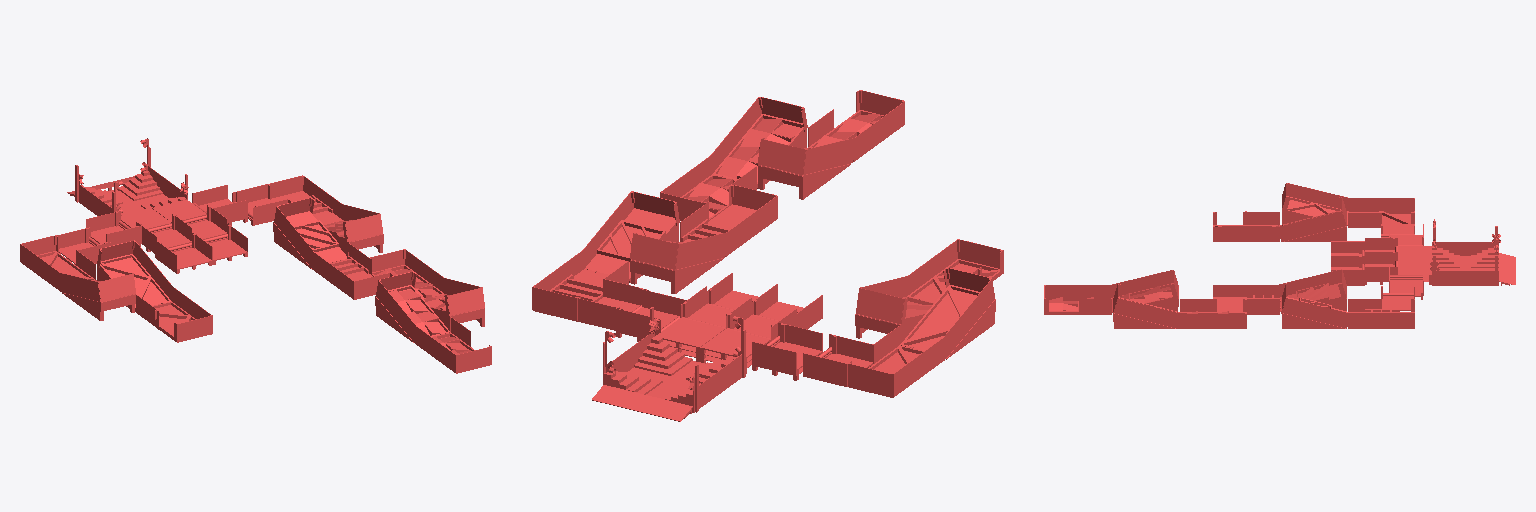
URDF robot description (competition_map):
<?xml version="1.0" ?>
<!-- =================================================================================== -->
<!-- |    This document was autogenerated by xacro from map.urdf.xacro                 | -->
<!-- |    EDITING THIS FILE BY HAND IS NOT RECOMMENDED                                 | -->
<!-- =================================================================================== -->
<robot name="competition_map">
  <link name="world"/>
  <joint name="map_part1_joint" type="fixed">
    <origin rpy="0.0 0.0 0.0" xyz="0 0 0"/>
    <parent link="world"/>
    <child link="map_part1"/>
  </joint>
  <link name="map_part1">
    <inertial>
      <origin rpy="0 0 0" xyz="0 0 0.5"/>
      <mass value="1"/>
      <inertia ixx="1.0" ixy="0.0" ixz="0.0" iyy="1.0" iyz="0.0" izz="1.0"/>
    </inertial>
    <visual>
      <origin rpy="0 0 0" xyz="0 0 0"/>
      <geometry>
	      <mesh filename="./map_part.stl"/>
      </geometry>
      <material name="">
        <color rgba="1.0 0.41 0.41 1"/>
      </material>
    </visual>
    <collision>
      <origin rpy="0 0 0" xyz="0 0 0"/>
      <geometry>
        <mesh filename="./map_part.stl"/>
      </geometry>
      <material name="">
        <!-- <color rgba="1 0 1 1" />-->
      </material>
    </collision>
  </link>
  <gazebo reference="map_part1">
    <material>Gazebo/Wood</material>
    <static>true</static>
  </gazebo>
  <gazebo>
    <static>true</static>
  </gazebo>
</robot>

--- Render facts (derived) ---
Views: 3 orthographic renders of the robot side by side, from view 1: azimuth 30°, elevation 25°; view 2: azimuth 150°, elevation 25°; view 3: azimuth 270°, elevation 25°.
Robot: competition_map — 2 links, 1 joints (1 fixed); root link world; default pose: every joint at zero.
Visible links, largest first — view 1: map_part1; view 2: map_part1; view 3: map_part1.
Link boxes in pixels (x1,y1,x2,y2): map_part1: [20, 138, 491, 373]; map_part1: [532, 90, 1003, 421]; map_part1: [1044, 183, 1515, 328].
Size in the robot's own frame: 9.73 by 16.8 by 1.52 metres.
1 mesh visuals loaded from 1 distinct referenced files (1 binary STL).